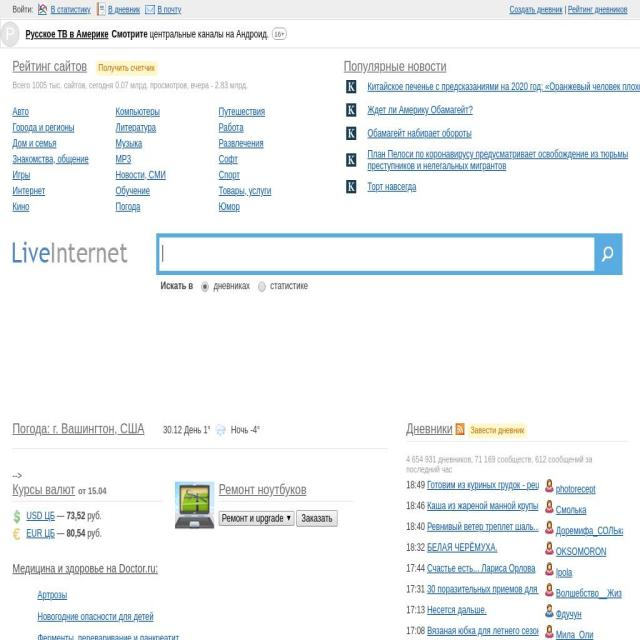button: (367, 148, 640, 171), (367, 80, 640, 92), (367, 127, 640, 139), (367, 180, 640, 192), (367, 104, 640, 115), (25, 28, 268, 40), (38, 2, 91, 16), (96, 2, 140, 16), (144, 2, 182, 16), (1, 21, 20, 47)
field: (162, 244, 592, 262), (219, 510, 294, 526), (594, 237, 620, 271), (296, 509, 338, 527), (201, 281, 210, 292), (258, 281, 267, 292)
heading: (13, 420, 145, 438), (13, 561, 158, 575), (344, 58, 446, 74), (219, 481, 306, 497), (12, 58, 87, 74), (13, 481, 75, 497), (407, 420, 452, 437), (470, 424, 524, 435), (77, 484, 106, 496), (455, 423, 464, 436)
image: (13, 584, 198, 640), (543, 479, 556, 493), (543, 500, 556, 514), (543, 521, 556, 535), (543, 542, 556, 556), (543, 562, 556, 576), (543, 584, 556, 598), (543, 604, 556, 618), (543, 625, 556, 639), (346, 103, 356, 117), (346, 153, 356, 167), (216, 422, 226, 436), (12, 509, 22, 523), (12, 527, 22, 541), (346, 80, 356, 93), (346, 127, 356, 140), (346, 180, 356, 193)
label: (270, 279, 308, 292), (213, 279, 250, 292)
link: (427, 583, 640, 596), (427, 479, 634, 492), (426, 625, 546, 637), (38, 610, 154, 622), (427, 521, 541, 533), (427, 500, 539, 512), (427, 563, 536, 575), (37, 631, 178, 640), (12, 153, 88, 165), (427, 542, 498, 554), (556, 525, 626, 537), (556, 588, 622, 600), (427, 604, 487, 617), (12, 121, 74, 133), (219, 184, 271, 197), (116, 168, 166, 181), (568, 4, 628, 14), (556, 546, 606, 558), (98, 62, 155, 72), (219, 105, 265, 117), (218, 137, 264, 149), (509, 4, 563, 14), (12, 137, 56, 149), (116, 105, 160, 117), (556, 483, 596, 496), (116, 121, 156, 133), (111, 28, 148, 40), (116, 184, 150, 197), (556, 629, 594, 640), (13, 184, 45, 197), (556, 504, 586, 517), (26, 509, 56, 522), (37, 588, 67, 601), (26, 527, 56, 539), (556, 608, 582, 621), (5, 18, 15, 50), (116, 137, 142, 149), (218, 121, 244, 133), (116, 200, 140, 212), (219, 168, 240, 181), (219, 200, 240, 212), (218, 153, 238, 165), (12, 168, 30, 181), (12, 200, 30, 212), (556, 567, 573, 579), (12, 105, 28, 117), (116, 153, 131, 165), (57, 28, 67, 40)
text: (13, 76, 325, 97), (407, 449, 628, 472), (148, 28, 270, 40), (163, 423, 213, 436), (67, 28, 109, 40), (161, 279, 193, 292), (228, 423, 260, 436), (26, 28, 58, 40), (406, 479, 427, 492), (406, 583, 427, 596), (406, 604, 427, 617), (66, 509, 86, 522), (406, 500, 427, 512), (406, 521, 427, 533), (406, 542, 427, 554), (406, 563, 427, 575), (406, 625, 427, 637), (66, 527, 86, 539), (85, 509, 103, 522), (272, 27, 288, 41), (13, 4, 35, 14), (85, 527, 103, 539), (54, 509, 66, 522), (54, 527, 66, 539), (12, 469, 22, 482), (562, 4, 568, 14)
